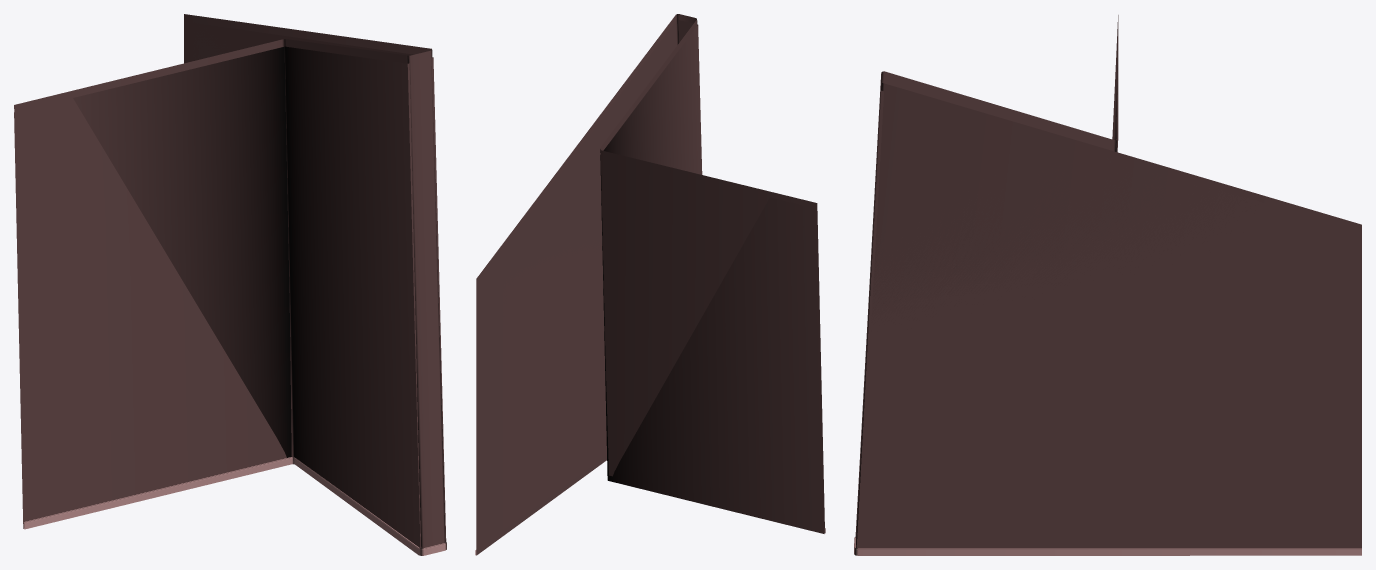
The model's file is SR_Wall_01.fbx.
The picture shows the model from 3 angles, left to right: view 1: azimuth 30°, elevation 25°; view 2: azimuth 150°, elevation 25°; view 3: azimuth 270°, elevation 25°; orthographic projection. The views are drawn at different scales.
Parts seen in each view (by area): view 1: SR_Wall_01_Col, SR_Wall_01_LOD0; view 2: SR_Wall_01_Col, SR_Wall_01_LOD0; view 3: SR_Wall_01_Col, SR_Wall_01_LOD0.
Boxes of the visible parts, x1=… form: SR_Wall_01_Col: x1=14, y1=21, x2=446, y2=548; SR_Wall_01_LOD0: x1=14, y1=14, x2=446, y2=555; SR_Wall_01_Col: x1=476, y1=20, x2=824, y2=555; SR_Wall_01_LOD0: x1=475, y1=14, x2=825, y2=555; SR_Wall_01_Col: x1=856, y1=49, x2=1361, y2=548; SR_Wall_01_LOD0: x1=854, y1=15, x2=1361, y2=555.
Size of the model in its own units: 546 by 859 by 837.
